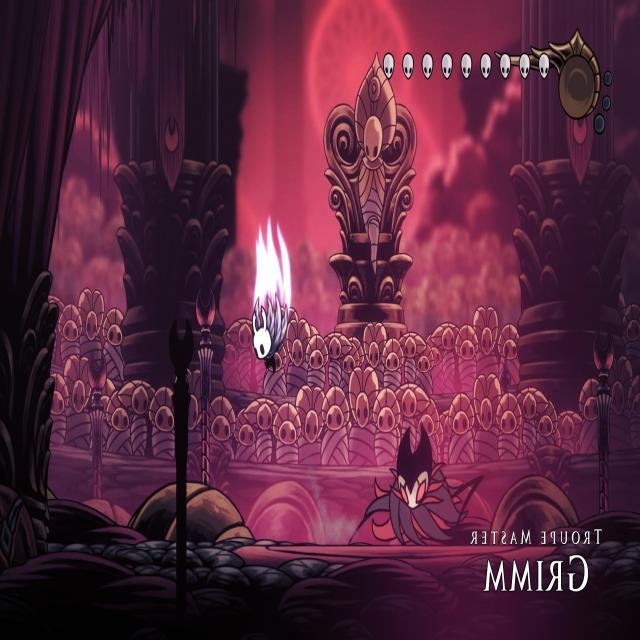Dive Dash: (343, 412, 487, 547)
Player: (250, 288, 292, 379)
